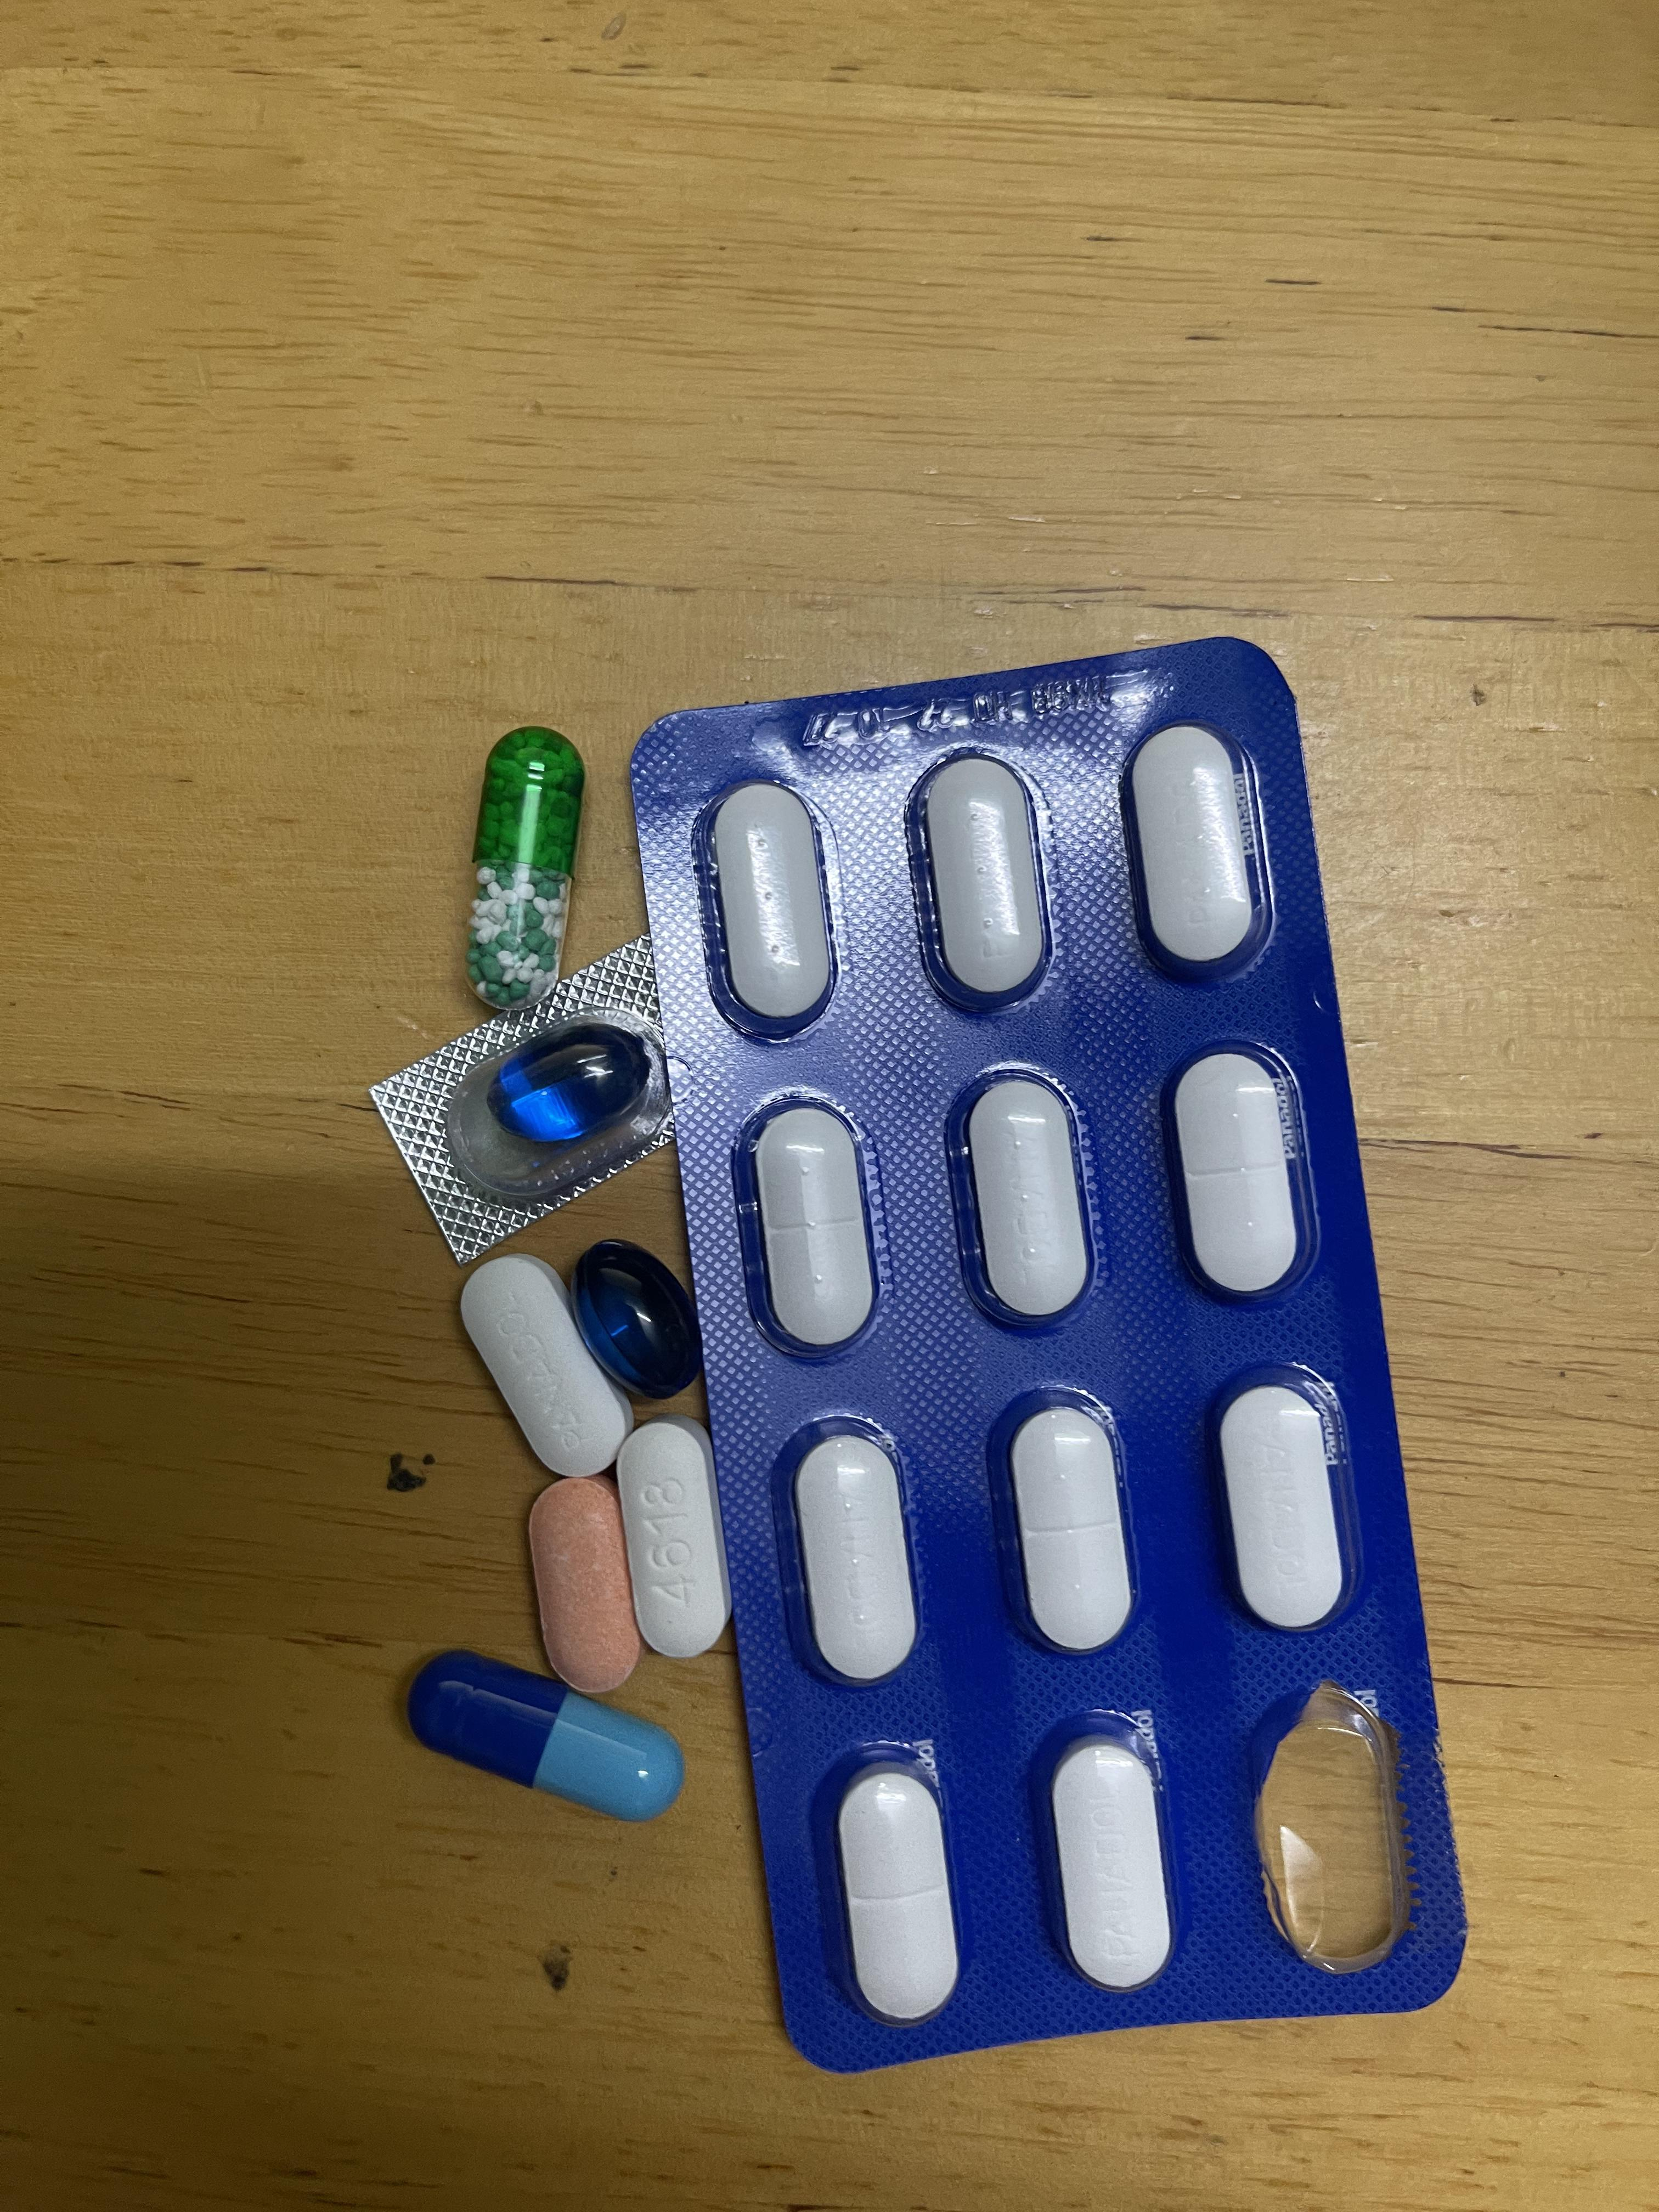Lincomyxin_500mg: (570, 1238, 701, 1399), (497, 1028, 648, 1141)
Loratadine_10mg: (530, 1480, 636, 1683)
Paracetamol_350mg: (814, 1747, 964, 2029), (1208, 1366, 1359, 1639), (1030, 1717, 1176, 1994), (990, 1390, 1138, 1660), (458, 1254, 634, 1480), (777, 1420, 922, 1689), (1171, 1054, 1305, 1305), (1129, 725, 1260, 977), (751, 1104, 878, 1352), (965, 1073, 1089, 1324), (927, 756, 1047, 1005), (709, 786, 830, 1031)
Paracetamol_500mg: (622, 1421, 728, 1655)
Paracetamol_650mg: (469, 730, 580, 1000)
pill: (418, 1662, 676, 1817)
